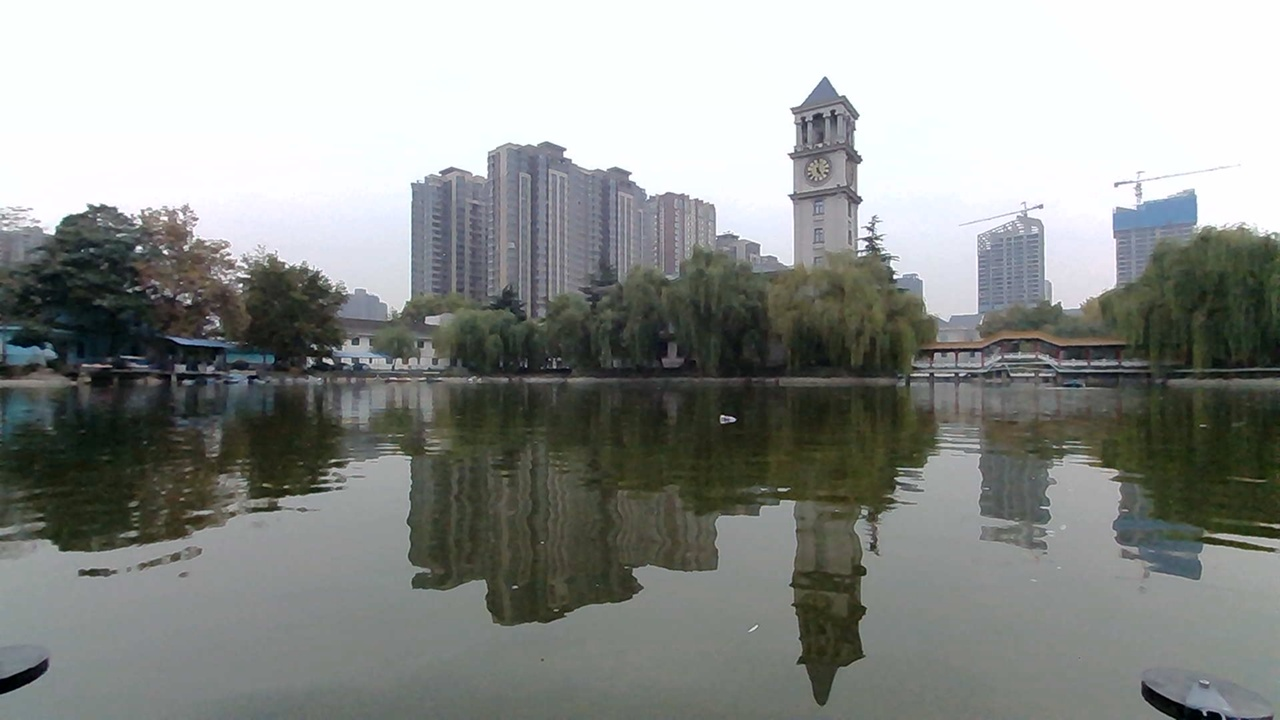bottle: (714, 401, 753, 431)
